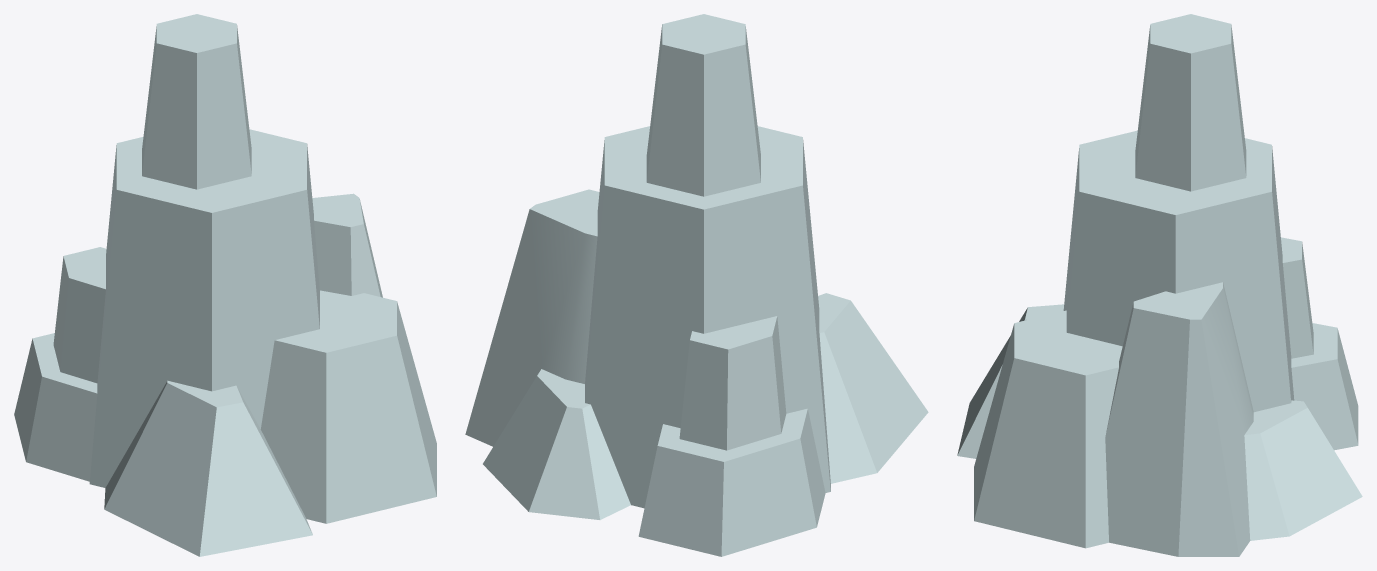
Rendered from stone_tall2.glb.
The picture shows the model from 3 angles, left to right: view 1: azimuth 30°, elevation 25°; view 2: azimuth 150°, elevation 25°; view 3: azimuth 270°, elevation 25°; orthographic projection. The views are drawn at different scales.
Visible parts, largest first — view 1: stone_tall2; view 2: stone_tall2; view 3: stone_tall2.
Part boxes in pixels (x1=…): stone_tall2: x1=14, y1=14, x2=436, y2=556; stone_tall2: x1=465, y1=14, x2=928, y2=556; stone_tall2: x1=957, y1=14, x2=1362, y2=556.
Bounding box in the file's own units: 0.7648 × 0.8838 × 0.77.
